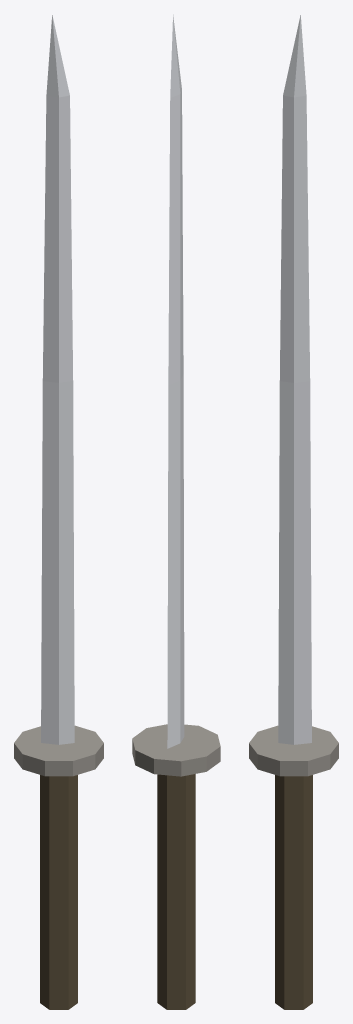
The model's file is katana.glb.
3 views of the same model, side by side, from view 1: azimuth 90°, elevation 25°; view 2: azimuth 150°, elevation 25°; view 3: azimuth 270°, elevation 25° (orthographic).
Visible parts, largest first — view 1: katana; view 2: katana; view 3: katana.
Boxes of the visible parts, x1=… form: katana: x1=14, y1=15, x2=103, y2=1009; katana: x1=132, y1=14, x2=220, y2=1009; katana: x1=249, y1=15, x2=338, y2=1009.
Size of the model in its own units: 0.0761 by 0.97 by 0.08.
